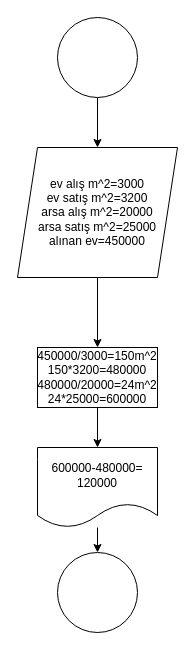
Image size: 195x650. Some labels were removed from this diagram. The shapes that lost their labels are listed below. From the top down, each one's centre as x and y in pixels, then its label:
At pixel 97 57: "BAŞLA".
At pixel 97 592: "DUR".
